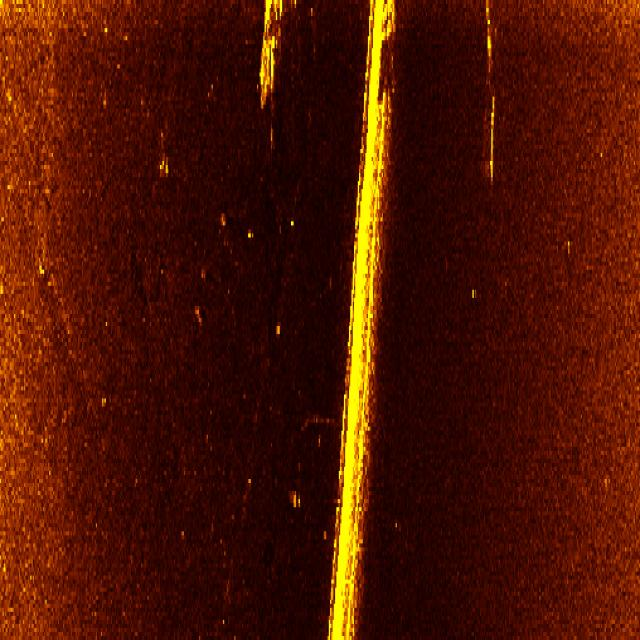other: (315, 8, 406, 620), (240, 0, 292, 113)
